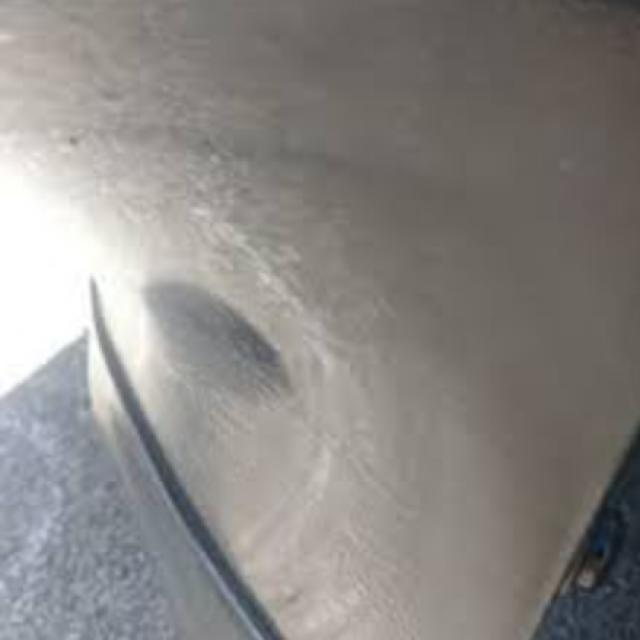dents: (121, 274, 302, 416)
